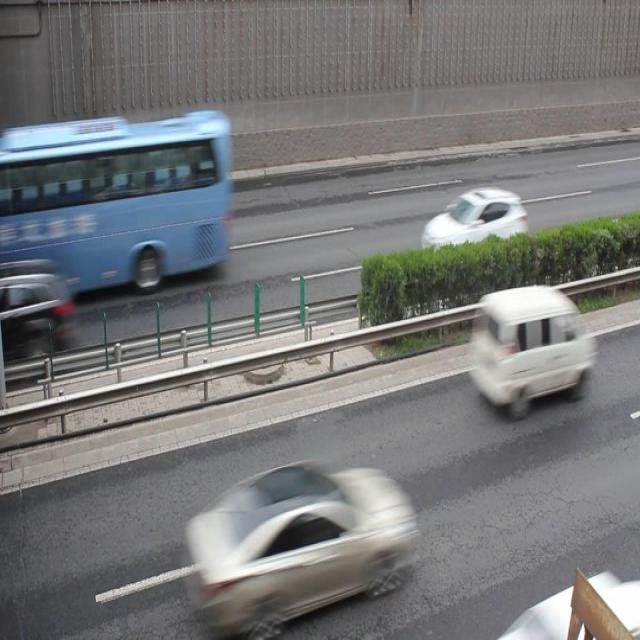car: (180, 458, 411, 640), (420, 184, 526, 272)
truck: (467, 284, 592, 412)
van: (1, 114, 229, 297)
